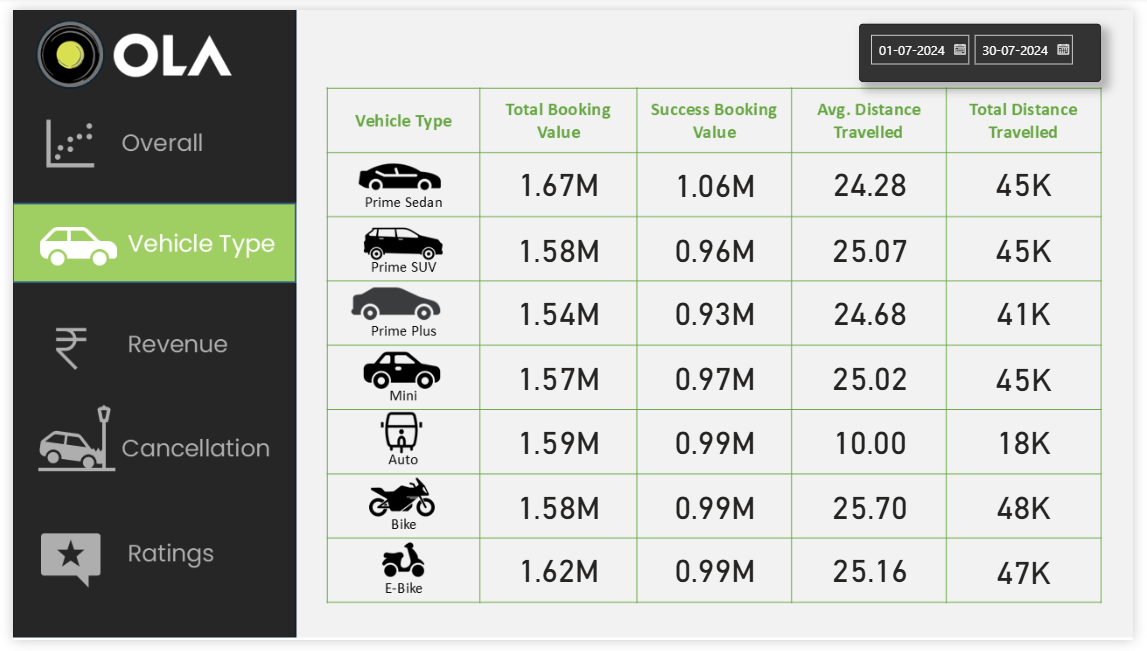

The page's visual inventory and layout, read from the dashboard file:
{"tool":"powerbi","page":{"name":"Vehicle Type","canvas":[1280,720],"ordinal":1},"visuals":[{"type":"actionButton","box":[0,339,324.5,96.5],"z":0},{"type":"actionButton","box":[0,445.2,324.5,96.5],"z":1000},{"type":"actionButton","box":[0,579.1,324.5,96.5],"z":2000},{"type":"actionButton","box":[0,575.5,324.5,96.5],"z":3000},{"type":"actionButton","box":[0,103.8,324.5,96.5],"z":4000},{"type":"card","fields":{"Values":["Sum(July.Booking_Value)"]},"box":[540,168.8,167.5,61.2],"z":5000},{"type":"card","fields":{"Values":["Sum(July.Booking_Value)"]},"box":[540,243.8,167.5,61.2],"z":6000},{"type":"card","fields":{"Values":["Sum(July.Booking_Value)"]},"box":[540,316.2,167.5,61.2],"z":7000},{"type":"card","fields":{"Values":["Sum(July.Booking_Value)"]},"box":[540,390,167.5,61.2],"z":8000},{"type":"card","fields":{"Values":["Sum(July.Booking_Value)"]},"box":[540,462.5,167.5,61.2],"z":9000},{"type":"card","fields":{"Values":["Sum(July.Booking_Value)"]},"box":[540,537.5,167.5,61.2],"z":10000},{"type":"card","fields":{"Values":["Sum(July.Booking_Value)"]},"box":[540,610,167.5,61.2],"z":11000},{"type":"card","fields":{"Values":["Sum(July.Booking_Value)"]},"box":[718.8,170,167.5,61.2],"z":12000},{"type":"card","fields":{"Values":["Sum(July.Booking_Value)"]},"box":[718.8,243.8,167.5,61.2],"z":13000},{"type":"card","fields":{"Values":["Sum(July.Booking_Value)"]},"box":[718.8,316.2,167.5,61.2],"z":14000},{"type":"card","fields":{"Values":["Sum(July.Booking_Value)"]},"box":[718.8,390,167.5,61.2],"z":15000},{"type":"card","fields":{"Values":["Sum(July.Booking_Value)"]},"box":[718.8,462.5,167.5,61.2],"z":16000},{"type":"card","fields":{"Values":["Sum(July.Booking_Value)"]},"box":[718.8,537.5,167.5,61.2],"z":17000},{"type":"card","fields":{"Values":["Sum(July.Booking_Value)"]},"box":[718.8,610,167.5,61.2],"z":18000},{"type":"card","fields":{"Values":["Avg(July.Ride_Distance)"]},"box":[895,168.8,167.5,61.2],"z":19000},{"type":"card","fields":{"Values":["Avg(July.Ride_Distance)"]},"box":[895,243.8,167.5,61.2],"z":20000},{"type":"card","fields":{"Values":["Avg(July.Ride_Distance)"]},"box":[895,316.2,167.5,61.2],"z":21000},{"type":"card","fields":{"Values":["Avg(July.Ride_Distance)"]},"box":[895,390,167.5,61.2],"z":22000},{"type":"card","fields":{"Values":["Avg(July.Ride_Distance)"]},"box":[895,462.5,167.5,61.2],"z":23000},{"type":"card","fields":{"Values":["Avg(July.Ride_Distance)"]},"box":[895,537.5,167.5,61.2],"z":24000},{"type":"card","fields":{"Values":["Avg(July.Ride_Distance)"]},"box":[895,610,167.5,61.2],"z":25000},{"type":"card","fields":{"Values":["Sum(July.Ride_Distance)"]},"box":[1071.2,168.8,167.5,61.2],"z":26000},{"type":"card","fields":{"Values":["Sum(July.Ride_Distance)"]},"box":[1071.2,243.8,167.5,61.2],"z":27000},{"type":"card","fields":{"Values":["Sum(July.Ride_Distance)"]},"box":[1071.2,316.2,167.5,61.2],"z":28000},{"type":"card","fields":{"Values":["Sum(July.Ride_Distance)"]},"box":[1071.2,391.2,167.5,61.2],"z":29000},{"type":"card","fields":{"Values":["Sum(July.Ride_Distance)"]},"box":[1071.2,462.5,167.5,61.2],"z":30000},{"type":"card","fields":{"Values":["Sum(July.Ride_Distance)"]},"box":[1071.2,537.5,167.5,61.2],"z":31000},{"type":"card","fields":{"Values":["Sum(July.Ride_Distance)"]},"box":[1071.2,611.2,167.5,61.2],"z":32000},{"type":"slicer","title":"Date","fields":{"Values":["July.Date"]},"box":[967.5,15,276.2,66.2],"z":33000}]}

Visuals, with their boxes on the page's 1280x720 design canvas (x1, y1, x2, y2). These are canvas units, not pixel positions in the 1147x651 screenshot, which may show the page scaled, cropped or inside an application window:
actionButton: l=0, t=339, r=324, b=436
actionButton: l=0, t=445, r=324, b=542
actionButton: l=0, t=579, r=324, b=676
actionButton: l=0, t=576, r=324, b=672
actionButton: l=0, t=104, r=324, b=200
card - Sum(July.Booking_Value): l=540, t=169, r=708, b=230
card - Sum(July.Booking_Value): l=540, t=244, r=708, b=305
card - Sum(July.Booking_Value): l=540, t=316, r=708, b=377
card - Sum(July.Booking_Value): l=540, t=390, r=708, b=451
card - Sum(July.Booking_Value): l=540, t=462, r=708, b=524
card - Sum(July.Booking_Value): l=540, t=538, r=708, b=599
card - Sum(July.Booking_Value): l=540, t=610, r=708, b=671
card - Sum(July.Booking_Value): l=719, t=170, r=886, b=231
card - Sum(July.Booking_Value): l=719, t=244, r=886, b=305
card - Sum(July.Booking_Value): l=719, t=316, r=886, b=377
card - Sum(July.Booking_Value): l=719, t=390, r=886, b=451
card - Sum(July.Booking_Value): l=719, t=462, r=886, b=524
card - Sum(July.Booking_Value): l=719, t=538, r=886, b=599
card - Sum(July.Booking_Value): l=719, t=610, r=886, b=671
card - Avg(July.Ride_Distance): l=895, t=169, r=1062, b=230
card - Avg(July.Ride_Distance): l=895, t=244, r=1062, b=305
card - Avg(July.Ride_Distance): l=895, t=316, r=1062, b=377
card - Avg(July.Ride_Distance): l=895, t=390, r=1062, b=451
card - Avg(July.Ride_Distance): l=895, t=462, r=1062, b=524
card - Avg(July.Ride_Distance): l=895, t=538, r=1062, b=599
card - Avg(July.Ride_Distance): l=895, t=610, r=1062, b=671
card - Sum(July.Ride_Distance): l=1071, t=169, r=1239, b=230
card - Sum(July.Ride_Distance): l=1071, t=244, r=1239, b=305
card - Sum(July.Ride_Distance): l=1071, t=316, r=1239, b=377
card - Sum(July.Ride_Distance): l=1071, t=391, r=1239, b=452
card - Sum(July.Ride_Distance): l=1071, t=462, r=1239, b=524
card - Sum(July.Ride_Distance): l=1071, t=538, r=1239, b=599
card - Sum(July.Ride_Distance): l=1071, t=611, r=1239, b=672
"Date" slicer: l=968, t=15, r=1244, b=81
